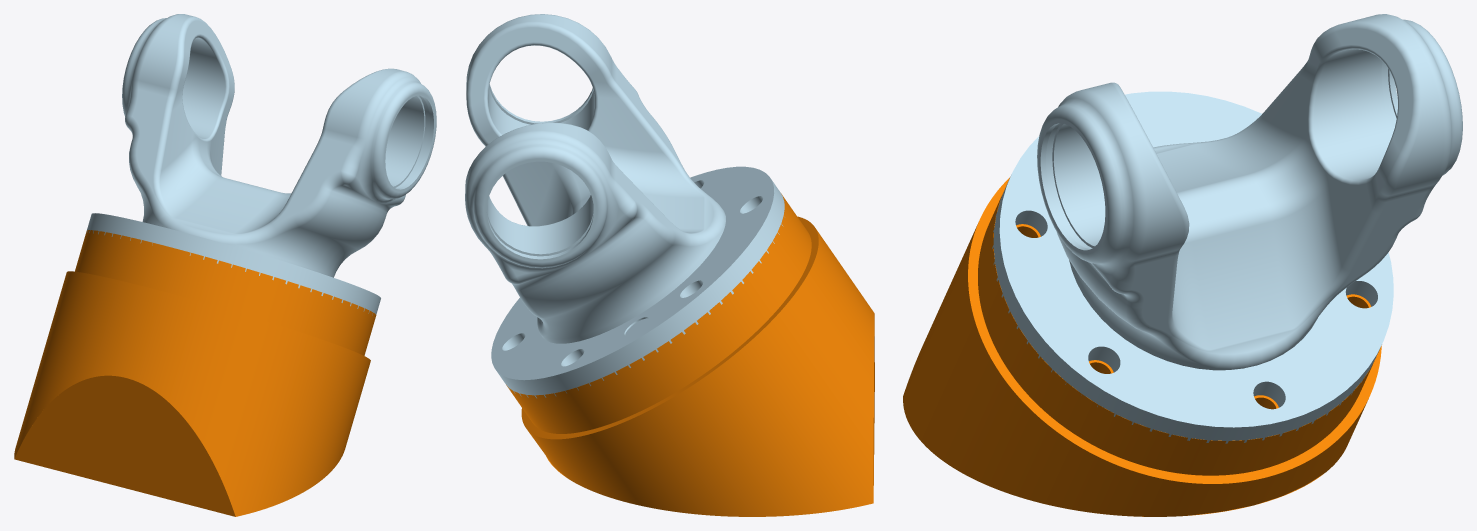
Rendered from cardan_bas1_2.dae.
The picture shows the model from 3 angles, left to right: view 1: azimuth 30°, elevation 25°; view 2: azimuth 150°, elevation 25°; view 3: azimuth 270°, elevation 25°; orthographic projection. The views are drawn at different scales.
Parts seen in each view (by area): view 1: STD04_0300_Articulation MISTRAL 600_M600_4_2, STD04_0300_Articulation MISTRAL 600_M600_2; view 2: STD04_0300_Articulation MISTRAL 600_M600_2, STD04_0300_Articulation MISTRAL 600_M600_4_2; view 3: STD04_0300_Articulation MISTRAL 600_M600_2, STD04_0300_Articulation MISTRAL 600_M600_4_2.
Part boxes in pixels (bbox=[...]): STD04_0300_Articulation MISTRAL 600_M600_4_2: bbox=[14, 230, 376, 516]; STD04_0300_Articulation MISTRAL 600_M600_2: bbox=[87, 14, 436, 315]; STD04_0300_Articulation MISTRAL 600_M600_2: bbox=[465, 14, 784, 398]; STD04_0300_Articulation MISTRAL 600_M600_4_2: bbox=[506, 193, 874, 516]; STD04_0300_Articulation MISTRAL 600_M600_2: bbox=[992, 14, 1462, 443]; STD04_0300_Articulation MISTRAL 600_M600_4_2: bbox=[903, 177, 1381, 516].
Bounding box in the file's own units: 0.149 × 0.1373 × 0.1228.
